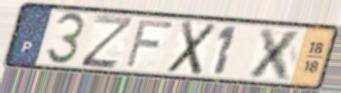1: (215, 25, 238, 77)
3: (43, 10, 87, 68)
F: (122, 17, 177, 70)
X: (245, 26, 307, 83), (164, 19, 220, 78)
Z: (77, 13, 137, 71)
